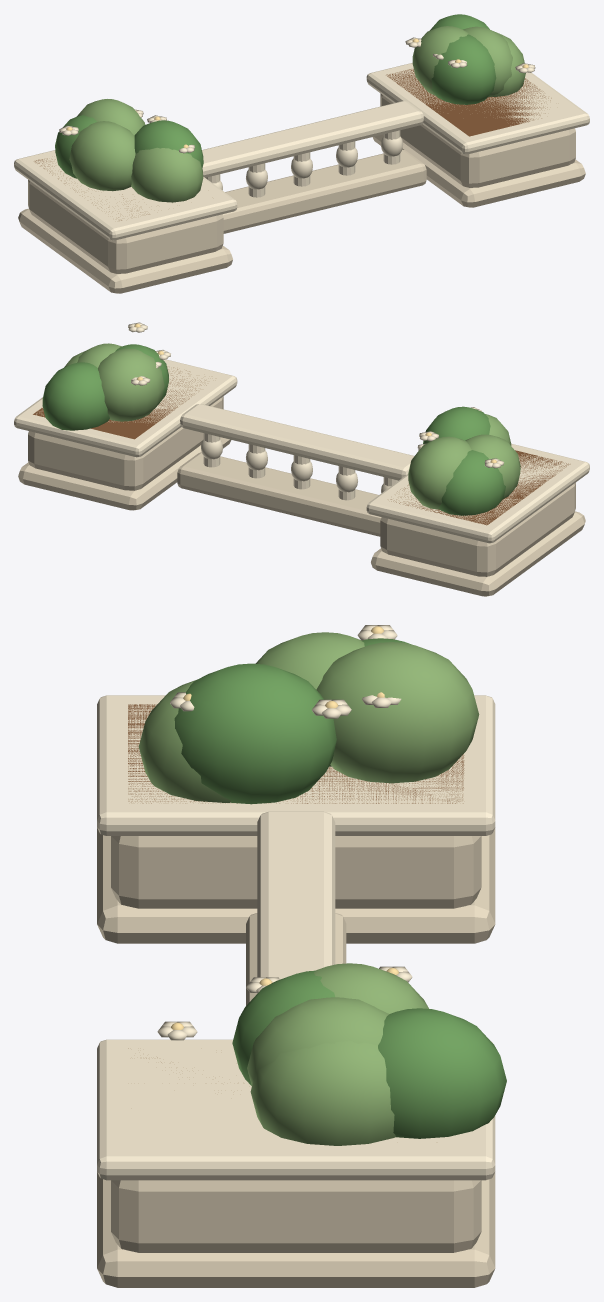
Rendered from world01-garden-kit-v1.glb.
3 renders of one model, top to bottom at view 1: azimuth 30°, elevation 25°; view 2: azimuth 150°, elevation 25°; view 3: azimuth 270°, elevation 25°, orthographic. The views are drawn at different scales.
Visible parts, largest first — view 1: Ivory limestone, Carved pale edges, Leaf sage, Garden green, Cedar doors; view 2: Ivory limestone, Carved pale edges, Leaf sage, Garden green, Cedar doors; view 3: Ivory limestone, Carved pale edges, Leaf sage, Garden green, Cedar doors.
Part boxes in pixels (x1,y1,x2,y2): Ivory limestone: (18, 93, 585, 293); Carved pale edges: (14, 37, 589, 240); Leaf sage: (69, 26, 525, 202); Garden green: (55, 14, 496, 178); Cedar doors: (34, 69, 551, 220); Ivory limestone: (18, 396, 585, 596); Carved pale edges: (14, 322, 589, 543); Leaf sage: (64, 343, 520, 509); Garden green: (42, 344, 505, 515); Cedar doors: (33, 366, 570, 525); Ivory limestone: (97, 828, 495, 1287); Carved pale edges: (97, 625, 495, 1180); Leaf sage: (138, 632, 479, 1145); Garden green: (174, 638, 506, 1138); Cedar doors: (128, 704, 464, 1062).
Bounding box in the file's own units: 6.4 × 1.6 × 2.37.
